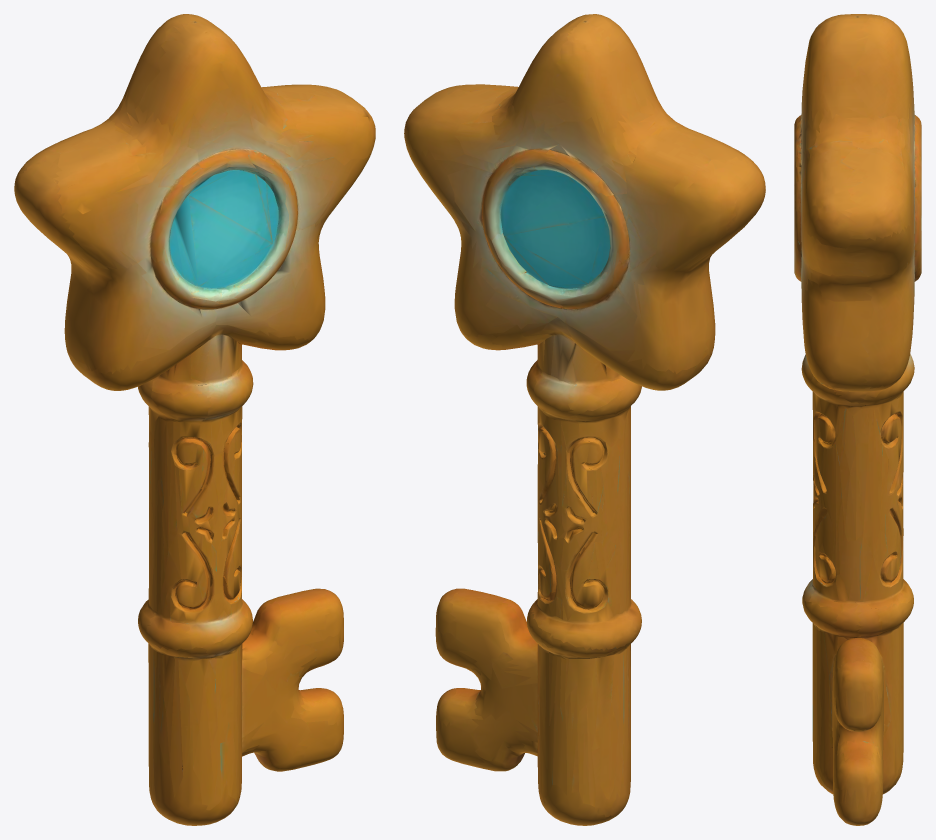
Rendered from llave.glb.
The picture shows the model from 3 angles, left to right: view 1: azimuth 30°, elevation 25°; view 2: azimuth 150°, elevation 25°; view 3: azimuth 270°, elevation 25°; orthographic projection. The views are drawn at different scales.
Parts seen in each view (by area): view 1: output_unwrapped; view 2: output_unwrapped; view 3: output_unwrapped.
Boxes of the visible parts, x1,y1,x2,y2 form: output_unwrapped: (14, 14, 375, 825); output_unwrapped: (404, 14, 765, 825); output_unwrapped: (794, 14, 921, 825).
Size of the model in its own units: 0.8413 by 1.9 by 0.283.
Materials: 1 (1 with a texture image).
